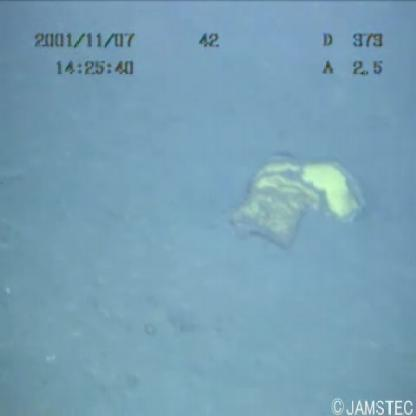Rác: (225, 138, 378, 256)
